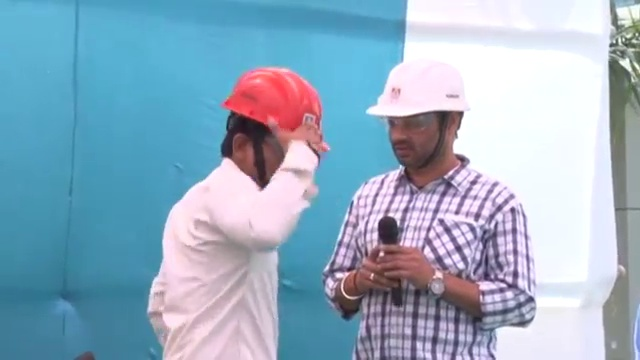helmet: (223, 64, 324, 175), (364, 56, 472, 120)
helmet_on: (221, 62, 326, 200), (361, 55, 471, 185)
person: (323, 56, 538, 360), (143, 64, 328, 360)
